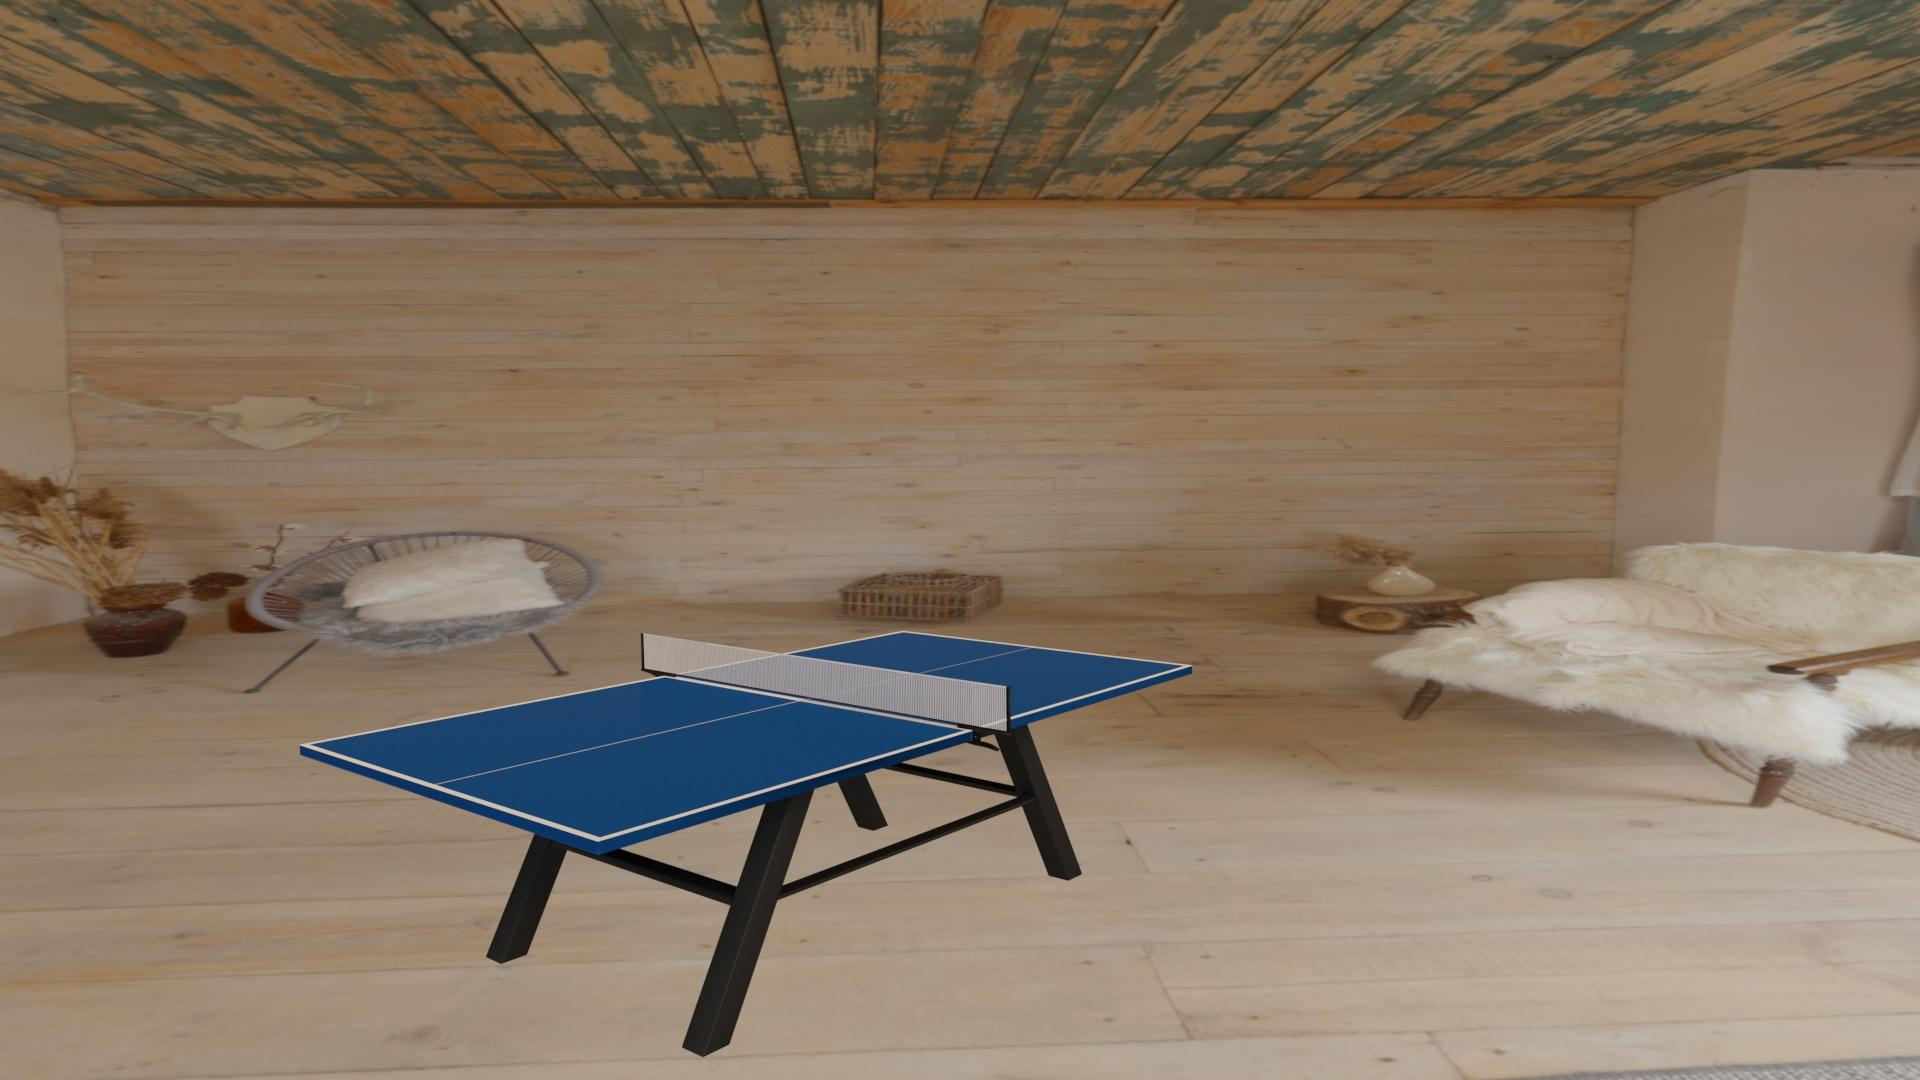table: (309, 632, 1185, 837)
